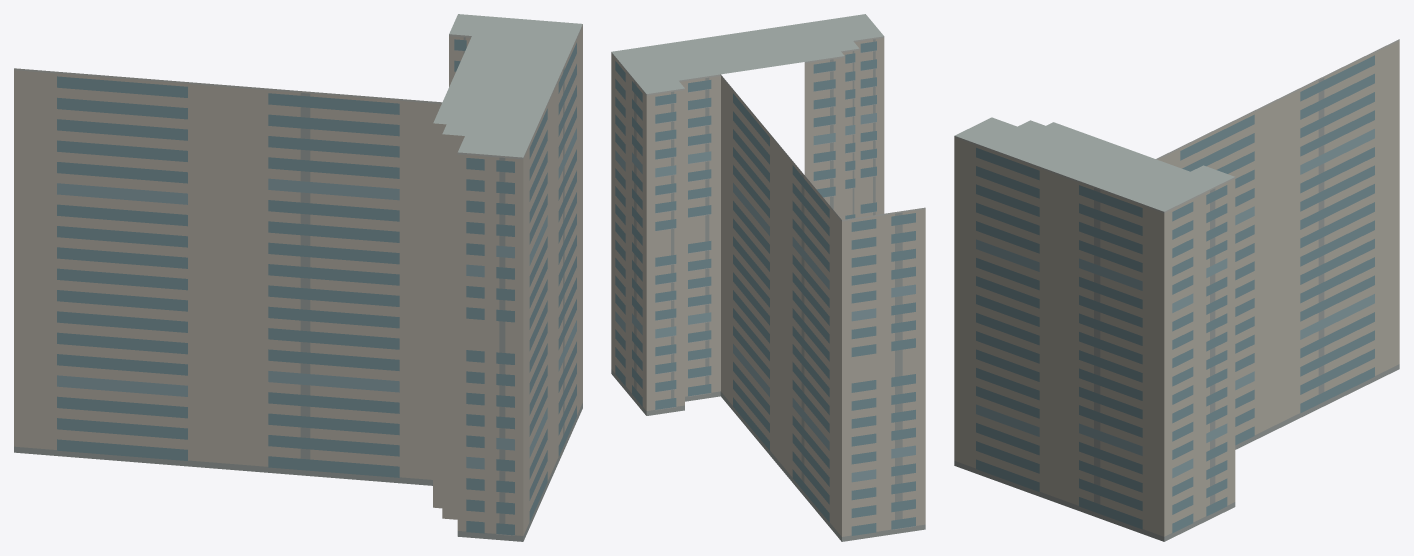
File: residential-5cfd99ae-9503-4b13-aad9-abbcb178eafd.glb
3 renders of one model, left to right at view 1: azimuth 30°, elevation 25°; view 2: azimuth 150°, elevation 25°; view 3: azimuth 270°, elevation 25°, orthographic. The views are drawn at different scales.
Visible parts, largest first — view 1: residential-5cfd99ae-9503-4b13-aad9-abbcb178eafd.tmp; view 2: residential-5cfd99ae-9503-4b13-aad9-abbcb178eafd.tmp; view 3: residential-5cfd99ae-9503-4b13-aad9-abbcb178eafd.tmp.
Boxes of the visible parts, x1,y1,x2,y2 form: residential-5cfd99ae-9503-4b13-aad9-abbcb178eafd.tmp: (14,14,582,541); residential-5cfd99ae-9503-4b13-aad9-abbcb178eafd.tmp: (611,14,925,541); residential-5cfd99ae-9503-4b13-aad9-abbcb178eafd.tmp: (954,39,1399,541).
Size of the model in its own units: 66.84 by 52 by 63.54.
